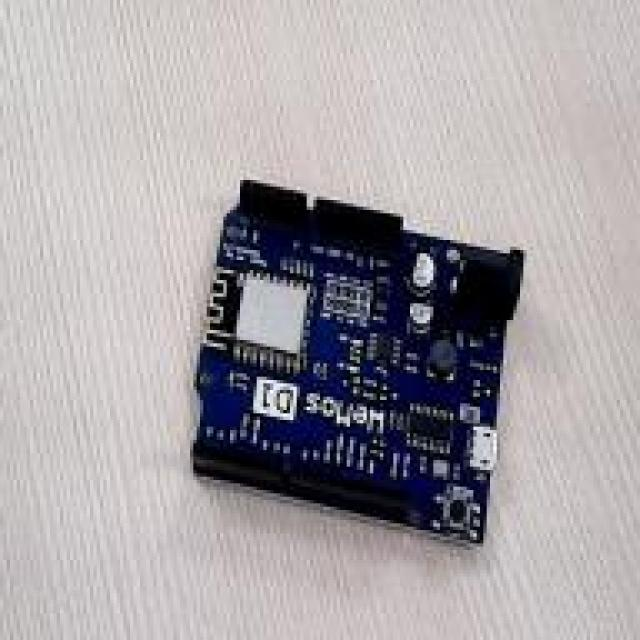Wemos: (194, 181, 521, 541)
